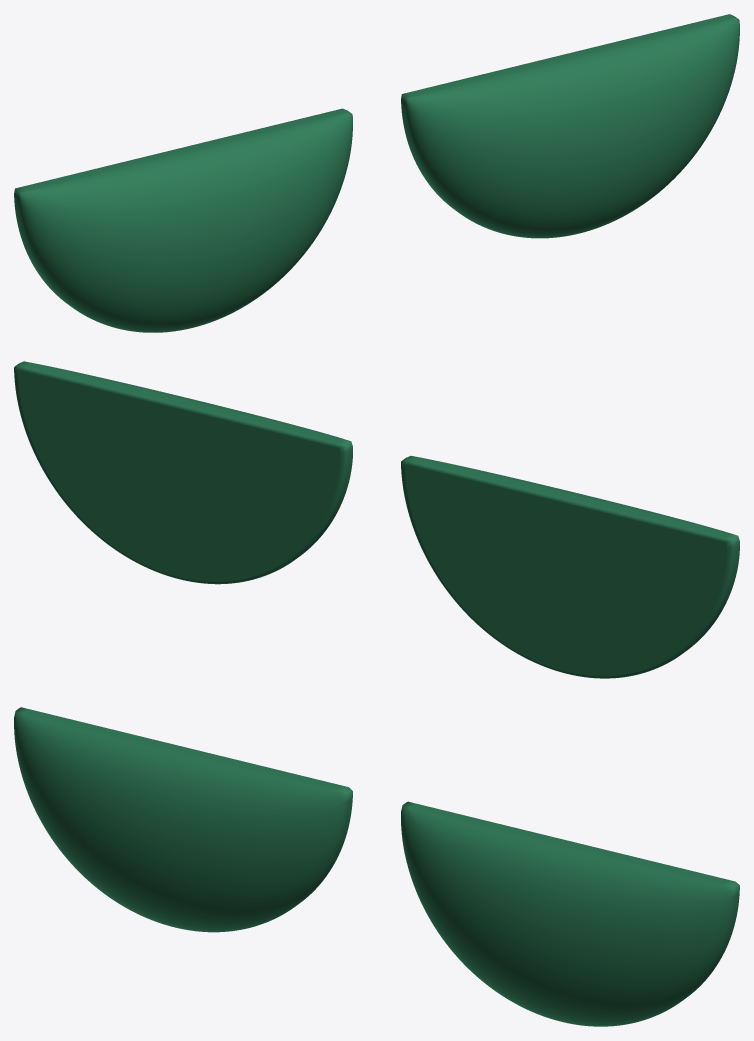
Rendered from matched-pair-v1.glb.
3 views of the same model, one above another, from view 1: azimuth 30°, elevation 25°; view 2: azimuth 150°, elevation 25°; view 3: azimuth 330°, elevation 25° (orthographic).
Parts seen in each view (by area): view 1: Half-Oval Cabochon 12x24x4mm.001, Half-Oval Cabochon 12x24x4mm; view 2: Half-Oval Cabochon 12x24x4mm, Half-Oval Cabochon 12x24x4mm.001; view 3: Half-Oval Cabochon 12x24x4mm, Half-Oval Cabochon 12x24x4mm.001.
Part boxes in pixels (x1=…): Half-Oval Cabochon 12x24x4mm.001: x1=401, y1=14, x2=739, y2=238; Half-Oval Cabochon 12x24x4mm: x1=14, y1=108, x2=352, y2=332; Half-Oval Cabochon 12x24x4mm: x1=401, y1=456, x2=739, y2=678; Half-Oval Cabochon 12x24x4mm.001: x1=14, y1=361, x2=352, y2=584; Half-Oval Cabochon 12x24x4mm: x1=14, y1=707, x2=352, y2=932; Half-Oval Cabochon 12x24x4mm.001: x1=401, y1=801, x2=739, y2=1026.
Bounding box in the file's own units: 0.0518 × 0.012 × 0.00398.
